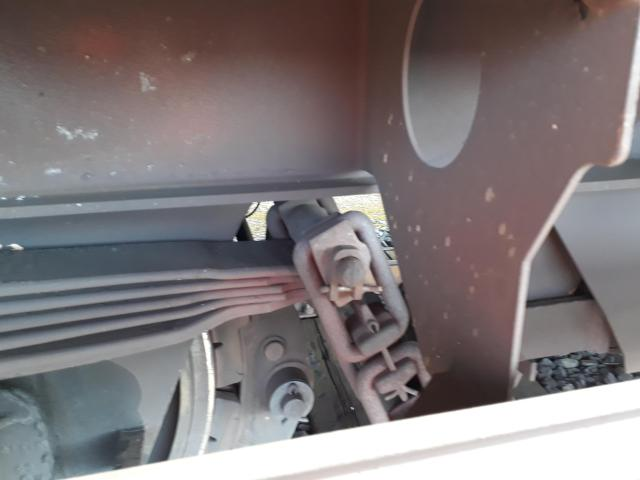blattfederww: (1, 233, 289, 368)
